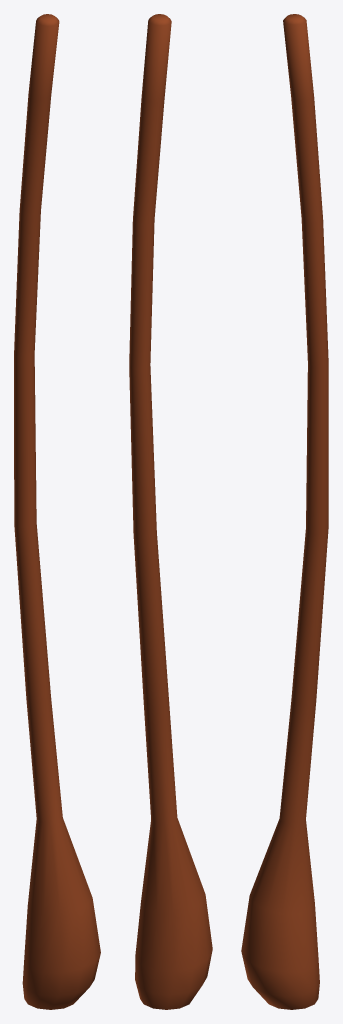
Rendered from TreeTrunk_43.fbx.
3 views of the same model, side by side, from view 1: azimuth 90°, elevation 25°; view 2: azimuth 150°, elevation 25°; view 3: azimuth 270°, elevation 25° (orthographic).
Visible parts, largest first — view 1: TreeTrunk_43; view 2: TreeTrunk_43; view 3: TreeTrunk_43.
Part boxes in pixels (box(x1,y1,x2,y2)): TreeTrunk_43: box(14, 14, 100, 1009); TreeTrunk_43: box(129, 14, 212, 1009); TreeTrunk_43: box(241, 14, 328, 1009).
Size of the model in its own units: 41.47 by 582 by 46.87.
